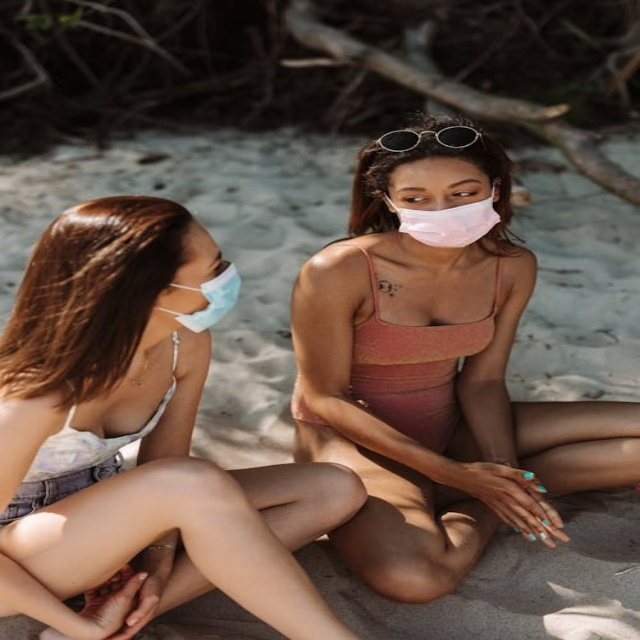Mascara: (386, 184, 502, 248), (158, 260, 243, 333)
Sin_gafas: (388, 179, 489, 204), (173, 240, 242, 275)
Sin_guantes: (439, 450, 579, 548), (61, 554, 165, 636)
